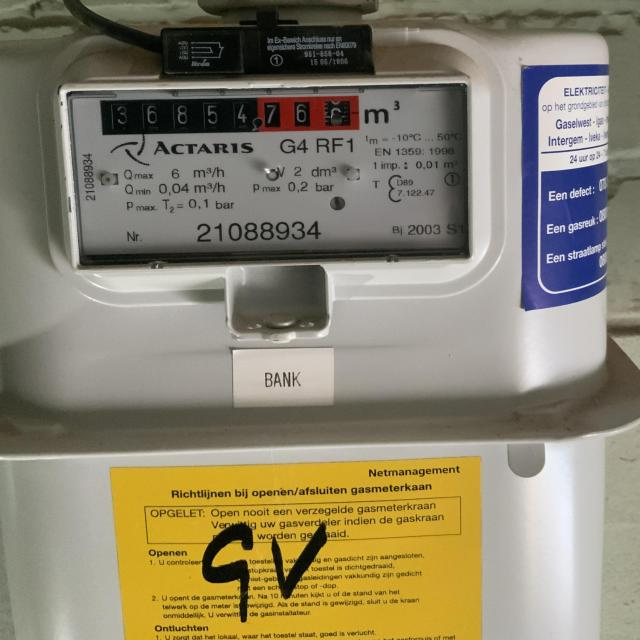gaz_meter: (56, 81, 470, 261)
indication: (100, 96, 357, 138)
